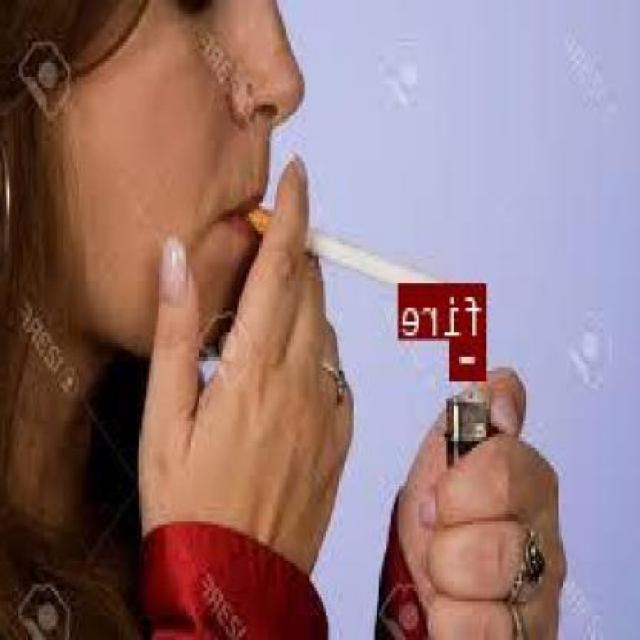fire: (453, 336, 489, 378)
